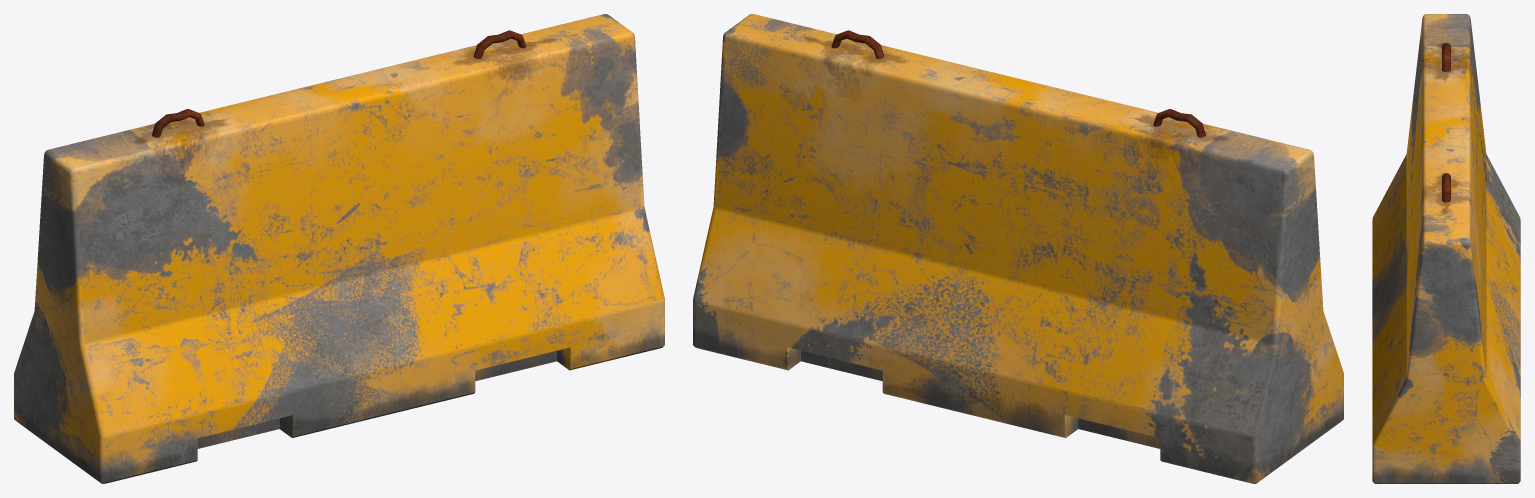
File: ParedcitaHormigon.glb
3 views of the same model, side by side, from view 1: azimuth 30°, elevation 25°; view 2: azimuth 150°, elevation 25°; view 3: azimuth 270°, elevation 25° (orthographic). The views are drawn at different scales.
Parts seen in each view (by area): view 1: Object_7; view 2: Object_7; view 3: Object_7.
Boxes of the visible parts, bbox=[...] form: Object_7: bbox=[14, 14, 664, 483]; Object_7: bbox=[693, 14, 1343, 483]; Object_7: bbox=[1372, 14, 1520, 483].
Bounding box in the file's own units: 1.76 × 0.9292 × 0.4825.
1 material, 1 textured.
